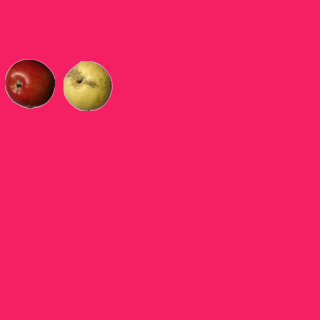Apple Braeburn: (4, 58, 54, 108)
Apple Golden 1: (62, 60, 112, 110)
